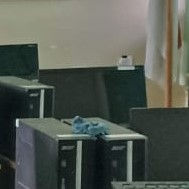monitor: (0, 43, 39, 82)
